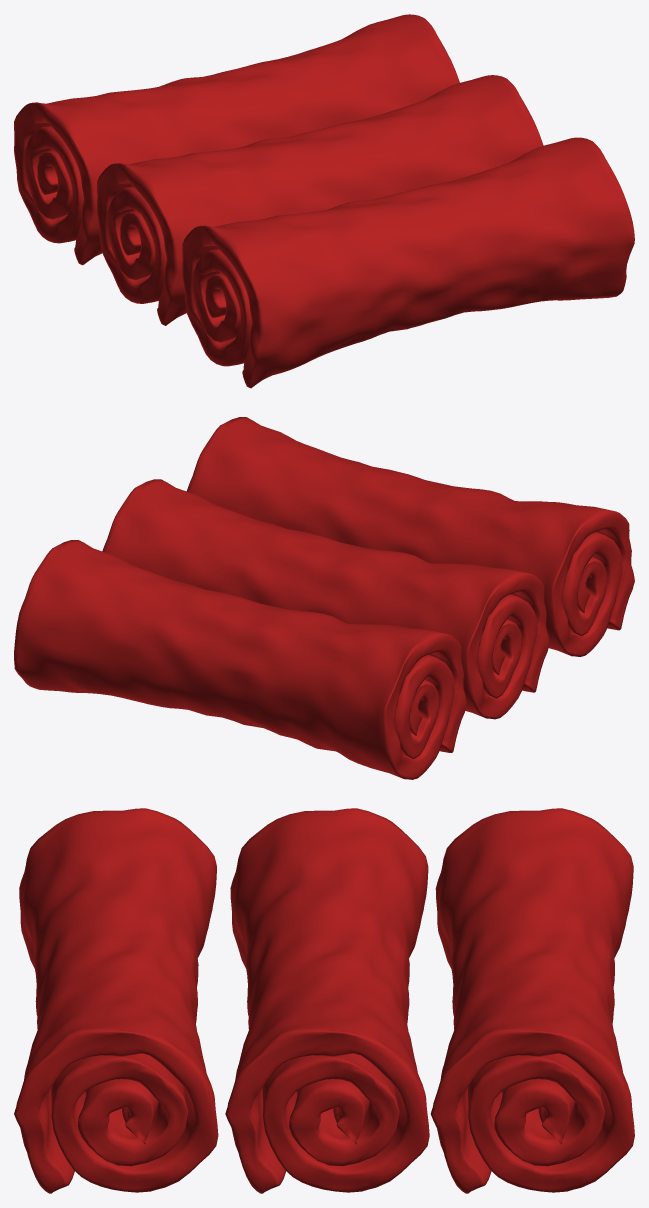
The model's file is towels.obj.
3 renders of one model, top to bottom at view 1: azimuth 30°, elevation 25°; view 2: azimuth 150°, elevation 25°; view 3: azimuth 270°, elevation 25°, orthographic. The views are drawn at different scales.
Parts seen in each view (by area): view 1: towels; view 2: towels; view 3: towels.
Boxes of the visible parts, x1,y1,x2,y2 form: towels: [14, 14, 634, 388]; towels: [14, 417, 634, 779]; towels: [14, 808, 634, 1193].
Size of what is drawn, in the model's own units: 233 by 79.45 by 267.
